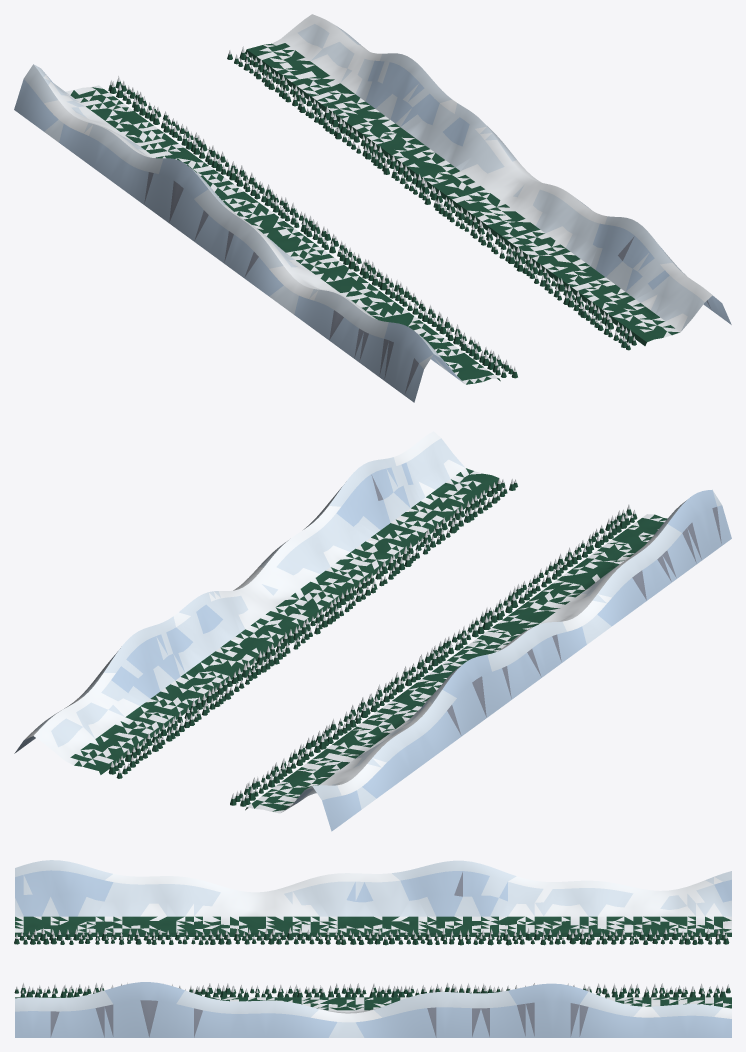
File: BordeNieve.fbx
3 views of the same model, one above another, from view 1: azimuth 30°, elevation 25°; view 2: azimuth 150°, elevation 25°; view 3: azimuth 270°, elevation 25° (orthographic). The views are drawn at different scales.
Parts seen in each view (by area): view 1: BordeNieve; view 2: BordeNieve; view 3: BordeNieve.
Boxes of the visible parts, bbox=[...] form: BordeNieve: bbox=[14, 14, 731, 402]; BordeNieve: bbox=[14, 431, 731, 831]; BordeNieve: bbox=[14, 860, 731, 1037].
Bounding box in the file's own units: 916 × 146 × 2002.
Materials: 1 (1 with a texture image).
